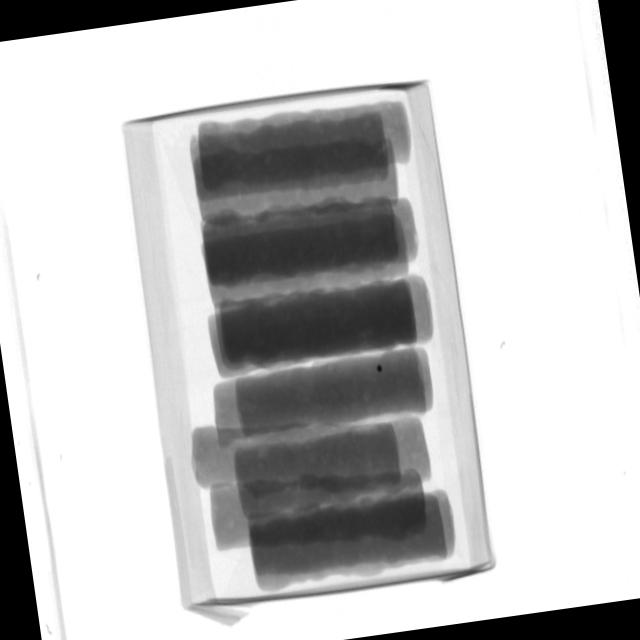ym: (376, 364, 383, 372)
